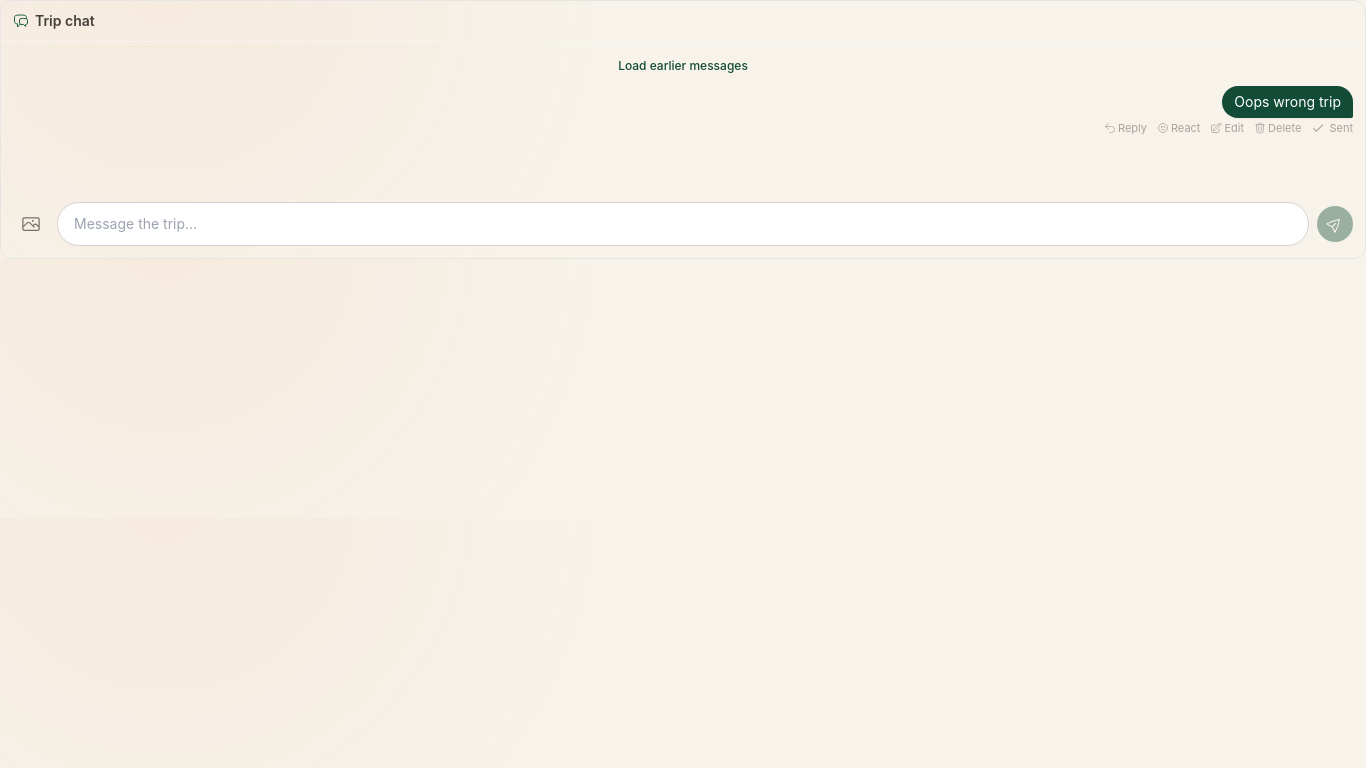
Test: TripChatPanel › deletes an own message after confirming, showing a "deleted" placeholder
Expected: the text "Oops wrong trip" is shown, [1234,93,1341,110]
Click the button "Delete".
click(1278, 128)  # box [1254,120,1301,136]
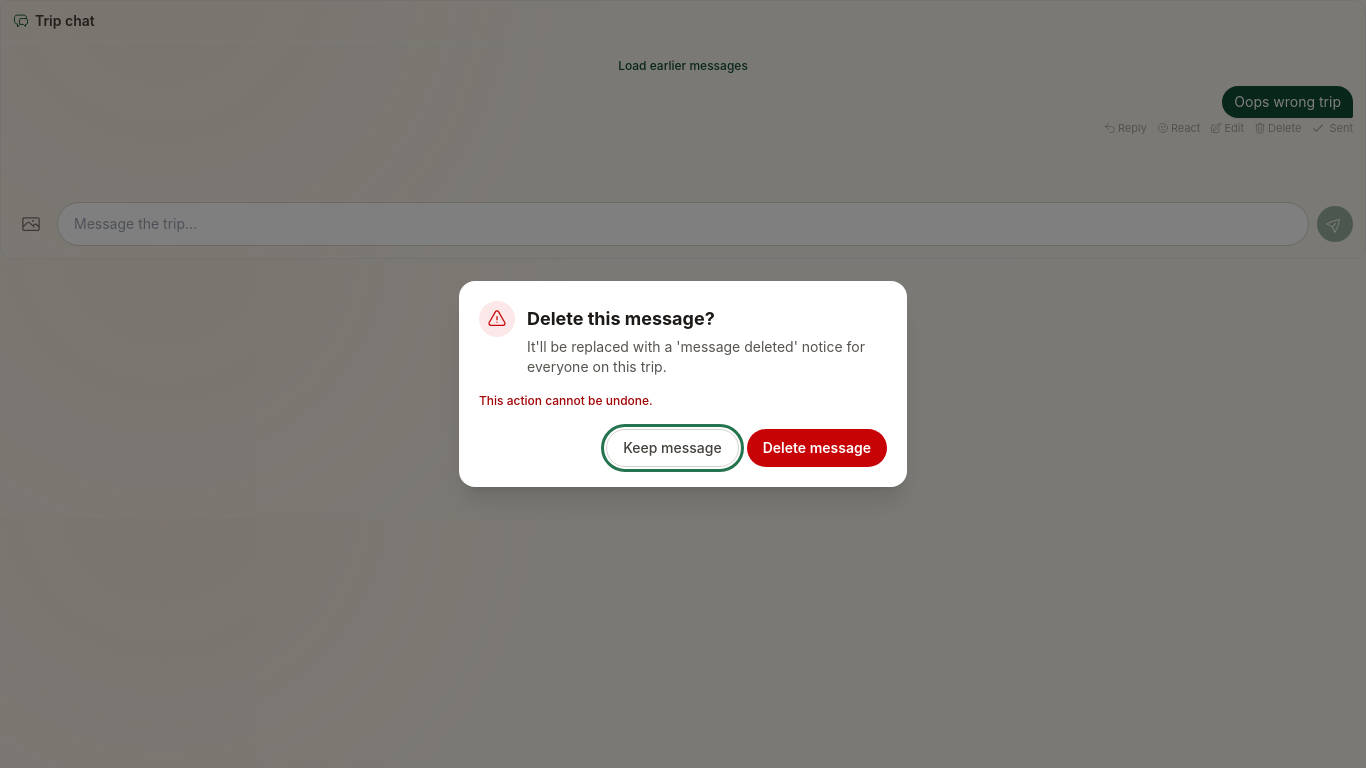
Click the button "Delete message".
click(817, 448)  # box [747,429,887,467]
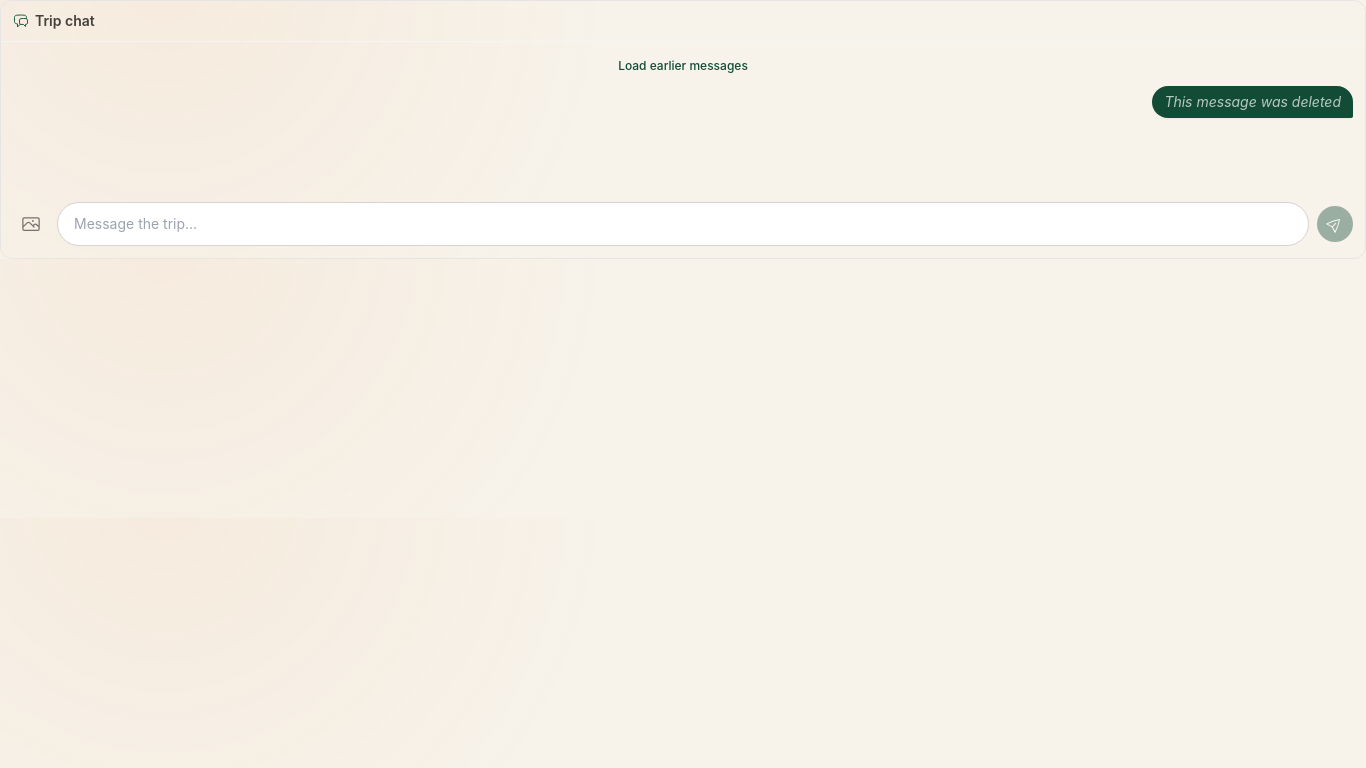
Expected: the text "This message was deleted" is shown, [1164,93,1341,110]
Expected: the text "Oops wrong trip" is gone
